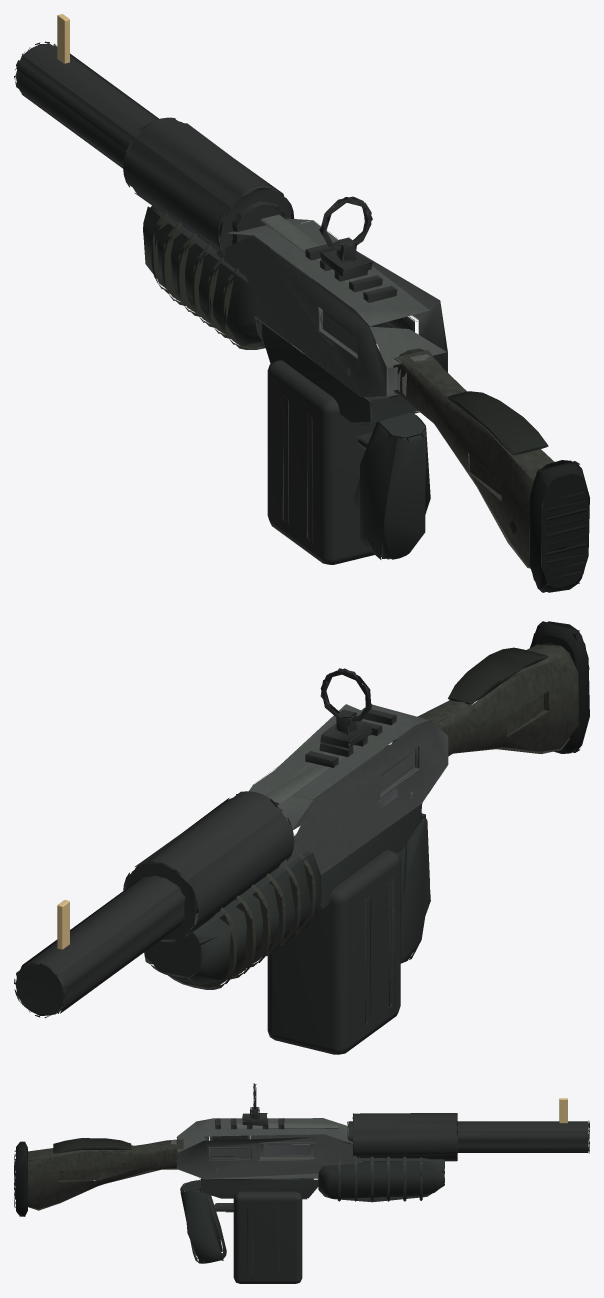
File: shotgun_mobile.glb
3 renders of one model, top to bottom at view 1: azimuth 30°, elevation 25°; view 2: azimuth 150°, elevation 25°; view 3: azimuth 270°, elevation 25°, orthographic. The views are drawn at different scales.
Visible parts, largest first — view 1: WeaponBody, Magazine, Butt stock, Butt plate; view 2: WeaponBody, Magazine, Butt stock, Butt plate; view 3: WeaponBody, Magazine, Butt stock, Butt plate.
Part boxes in pixels (box(x1,y1,x2,y2)): WeaponBody: box(14, 14, 548, 559); Magazine: box(267, 360, 389, 564); Butt stock: box(393, 348, 554, 570); Butt plate: box(529, 460, 589, 592); WeaponBody: box(14, 647, 568, 1017); Magazine: box(267, 844, 400, 1054); Butt stock: box(392, 642, 578, 768); Butt plate: box(530, 621, 589, 753); WeaponBody: box(40, 1083, 589, 1263); Magazine: box(233, 1178, 302, 1283); Butt stock: box(28, 1139, 183, 1210); Butt plate: box(14, 1141, 27, 1216).
Bounding box in the file's own units: 0.1124 × 0.4 × 1.09.
Materials: 9 (4 with a texture image).
